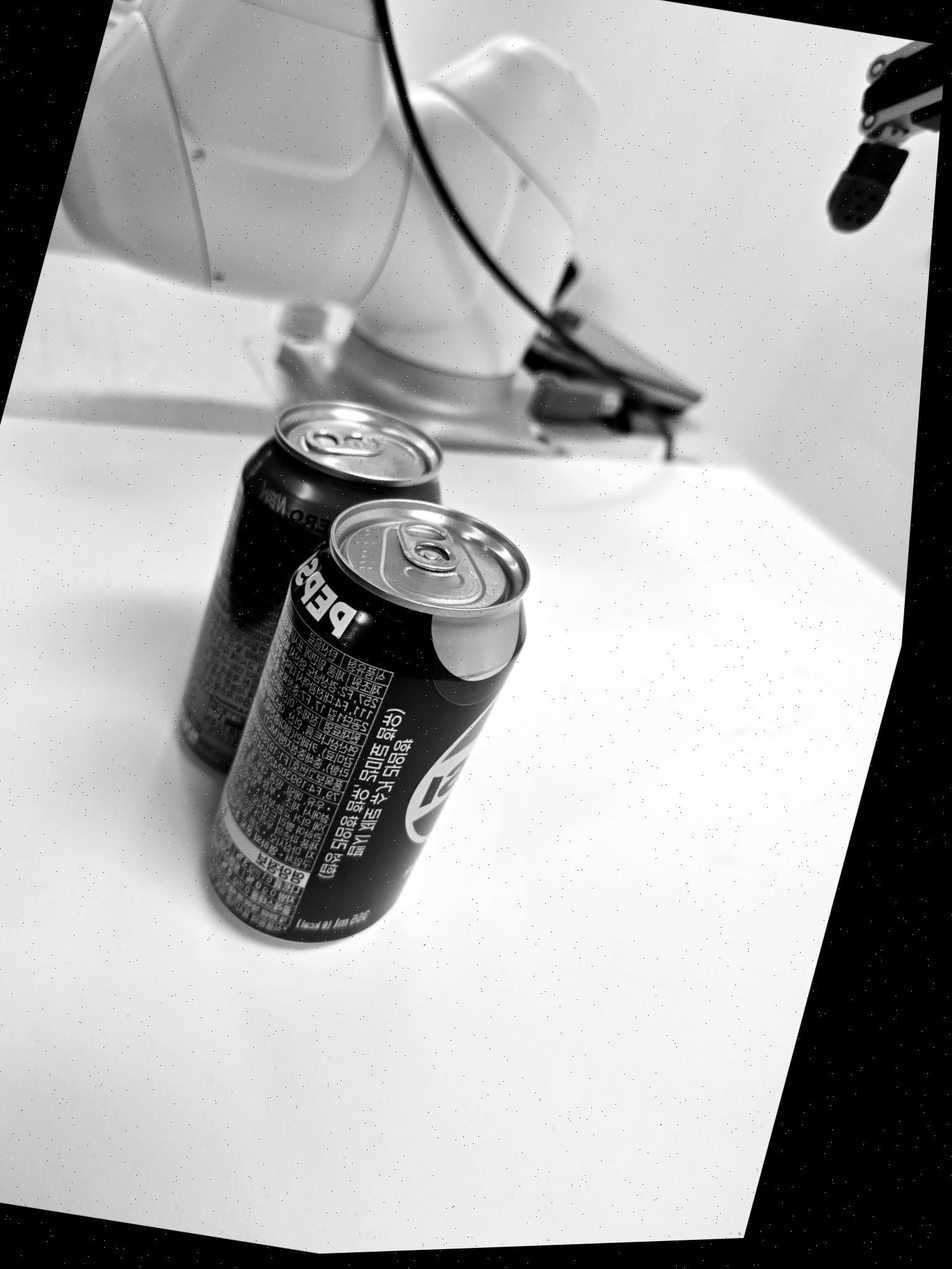can_coke_zero: (172, 405, 440, 772)
can_pepsi_zero: (205, 506, 535, 944)
